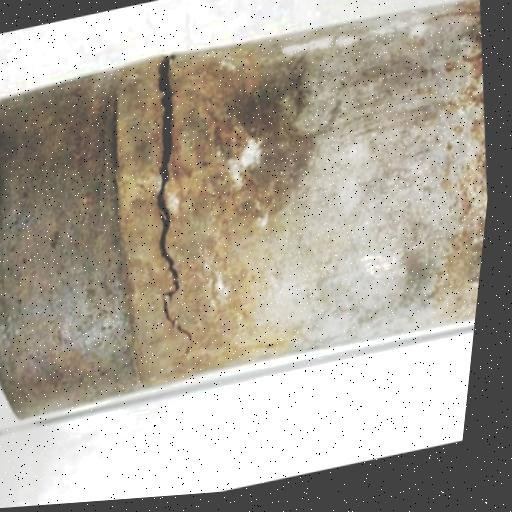crack: (107, 43, 238, 370)
